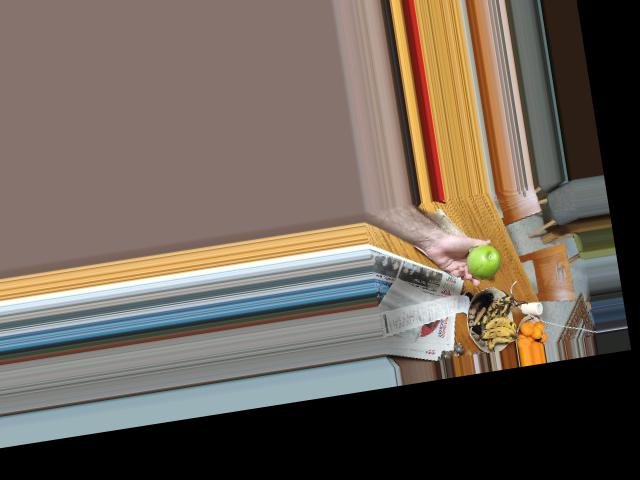apple: (460, 238, 505, 282)
